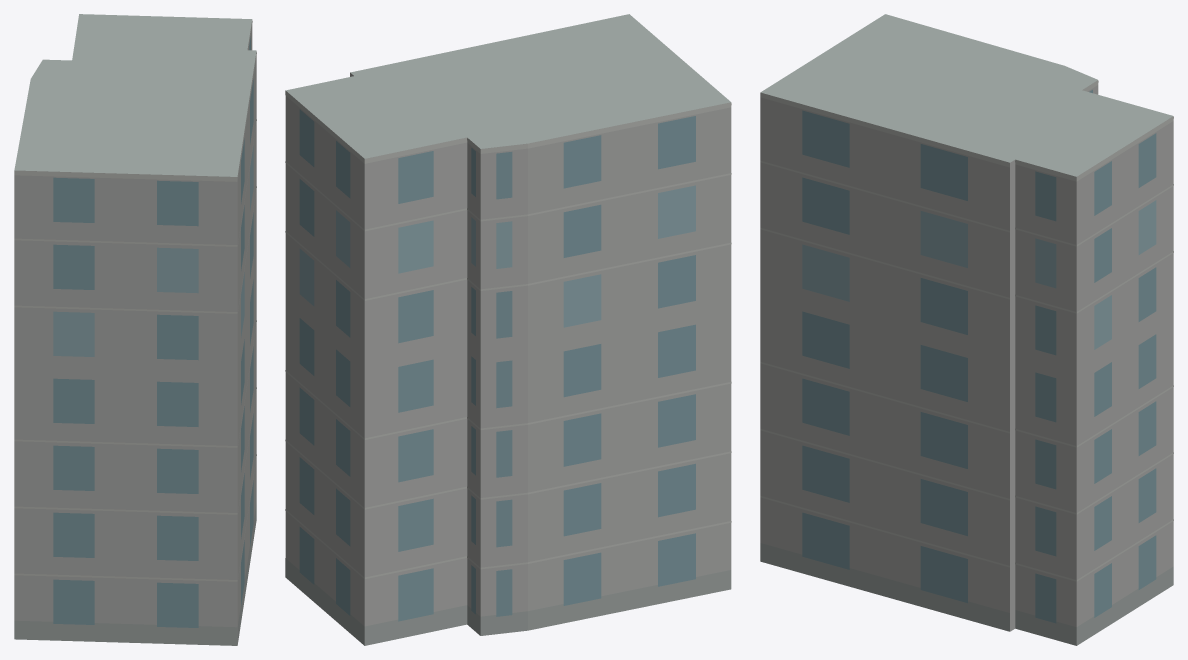
File: survey-upis-32784851.glb
3 renders of one model, left to right at view 1: azimuth 30°, elevation 25°; view 2: azimuth 150°, elevation 25°; view 3: azimuth 270°, elevation 25°, orthographic. The views are drawn at different scales.
Visible parts, largest first — view 1: survey-upis-32784851.tmp; view 2: survey-upis-32784851.tmp; view 3: survey-upis-32784851.tmp.
Boxes of the visible parts, <box> form: survey-upis-32784851.tmp: <box>14,14,256,645</box>; survey-upis-32784851.tmp: <box>285,14,731,645</box>; survey-upis-32784851.tmp: <box>760,14,1173,645</box>.
Size of the model in its own units: 17.59 by 23.6 by 18.87.
